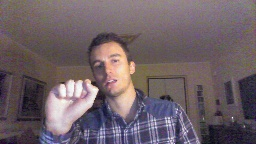Pugno: (42, 77, 101, 133)
